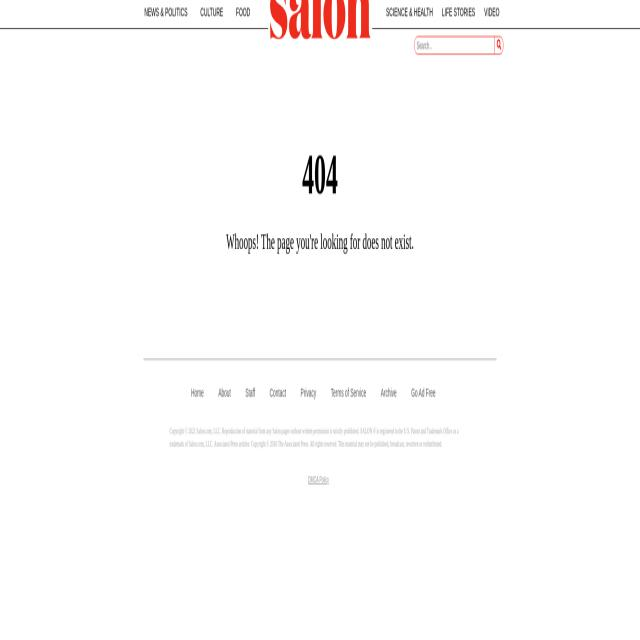button: (268, 0, 373, 47), (495, 37, 504, 55)
field: (415, 36, 495, 53)
